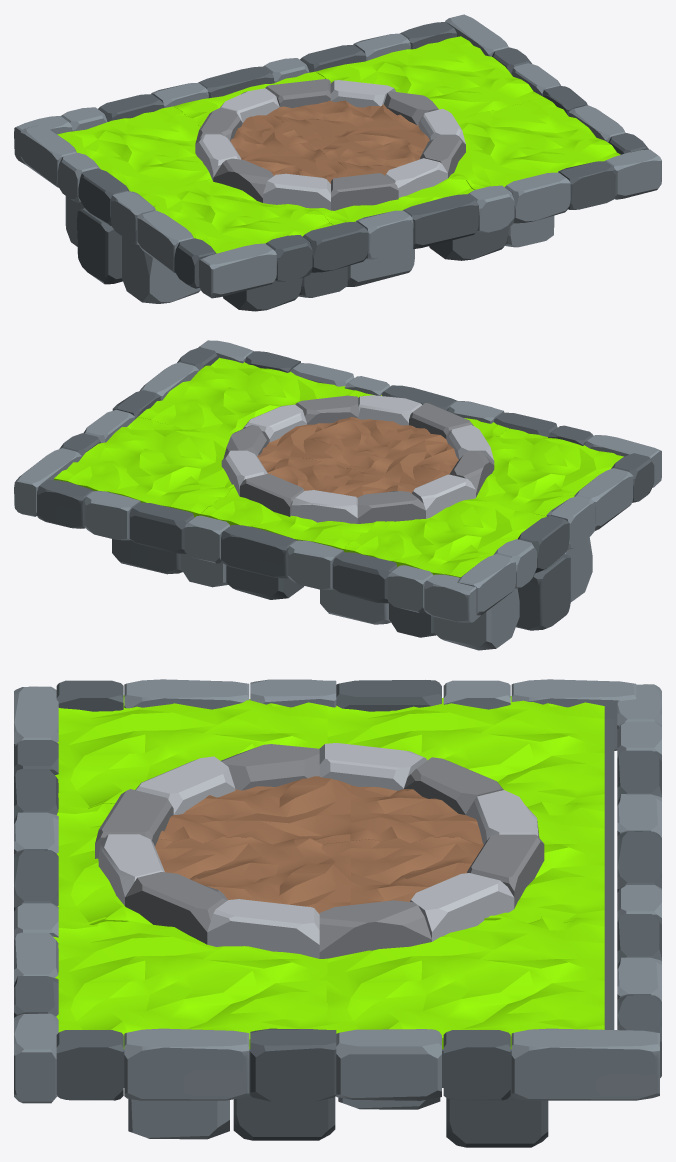
Rendered from plat002.fbx.
The picture shows the model from 3 angles, top to bottom: view 1: azimuth 30°, elevation 25°; view 2: azimuth 150°, elevation 25°; view 3: azimuth 270°, elevation 25°; orthographic projection. The views are drawn at different scales.
Visible parts, largest first — view 1: pasted__polySurface5279, pasted__polySurface6243, pasted__polySurface6224; view 2: pasted__polySurface5279, pasted__polySurface6243, pasted__polySurface6224; view 3: pasted__polySurface5279, pasted__polySurface6243, pasted__polySurface6224.
Part boxes in pixels (box(x1,y1,x2,y2)): pasted__polySurface5279: box(14, 14, 661, 311); pasted__polySurface6243: box(57, 36, 620, 253); pasted__polySurface6224: box(195, 79, 465, 210); pasted__polySurface5279: box(14, 340, 661, 650); pasted__polySurface6243: box(54, 357, 623, 577); pasted__polySurface6224: box(221, 395, 494, 523); pasted__polySurface5279: box(14, 679, 661, 1147); pasted__polySurface6243: box(53, 695, 604, 1049); pasted__polySurface6224: box(95, 743, 544, 958).
Size of the model in its own units: 1104 by 239 by 816.
